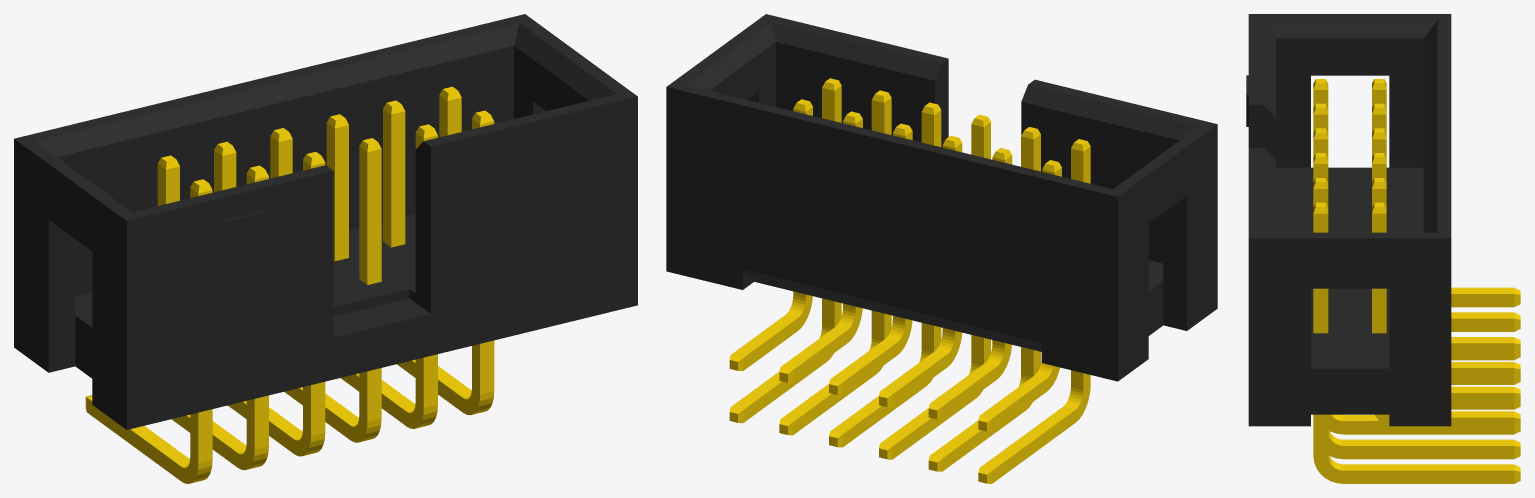
Rendered from DS1013-12R (IDC-12R CONNFLY).obj.
The picture shows the model from 3 angles, left to right: view 1: azimuth 30°, elevation 25°; view 2: azimuth 150°, elevation 25°; view 3: azimuth 270°, elevation 25°; orthographic projection. The views are drawn at different scales.
Visible parts, largest first — view 1: DS1013-12R_(IDC-12R_CONNFLY); view 2: DS1013-12R_(IDC-12R_CONNFLY); view 3: DS1013-12R_(IDC-12R_CONNFLY).
Boxes of the visible parts, bbox=[...] form: DS1013-12R_(IDC-12R_CONNFLY): bbox=[14, 14, 637, 483]; DS1013-12R_(IDC-12R_CONNFLY): bbox=[666, 14, 1217, 483]; DS1013-12R_(IDC-12R_CONNFLY): bbox=[1246, 14, 1520, 483].
Bounding box in the file's own units: 0.0147 × 0.00892 × 0.00757.
